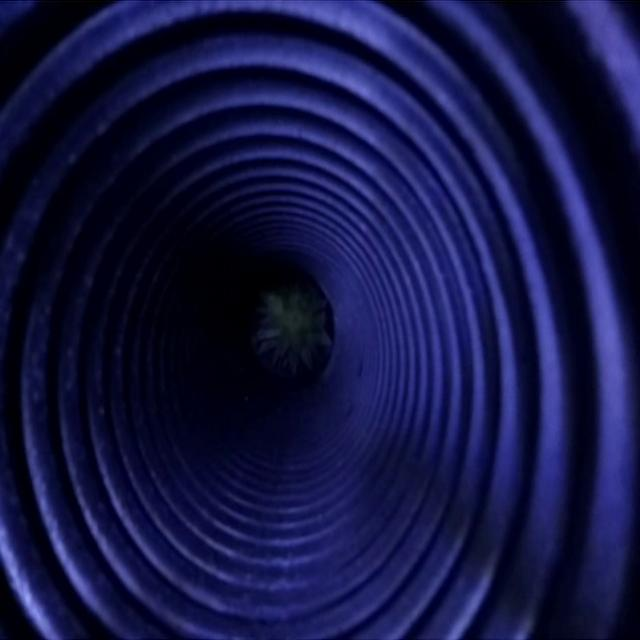leaf: (267, 288, 329, 374)
